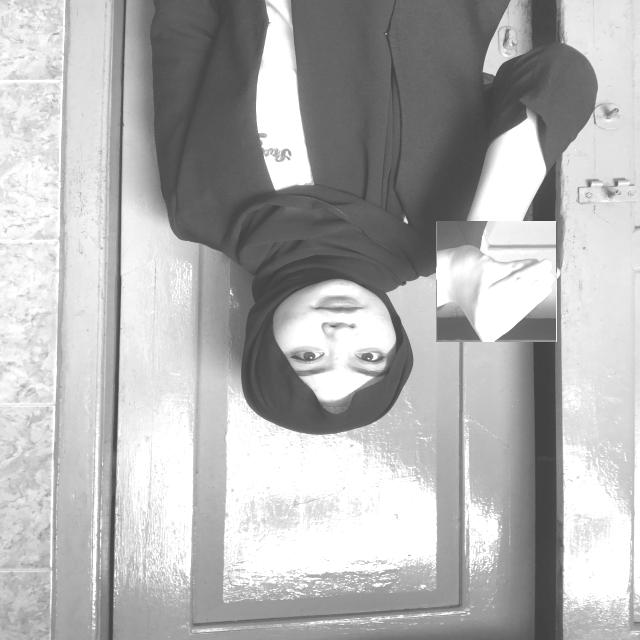kapan: (436, 221, 557, 342)
